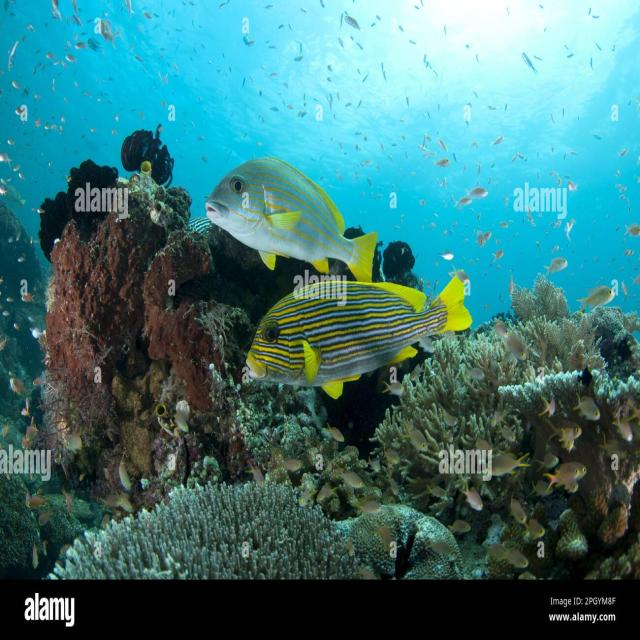RibbonedSweetlips: (242, 269, 472, 399), (204, 156, 378, 283)
